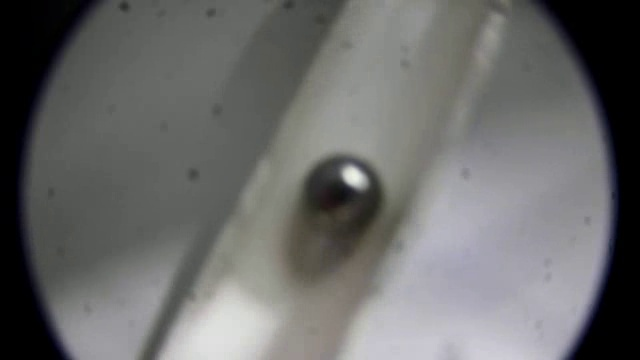gangzhu: (300, 152, 387, 229)
